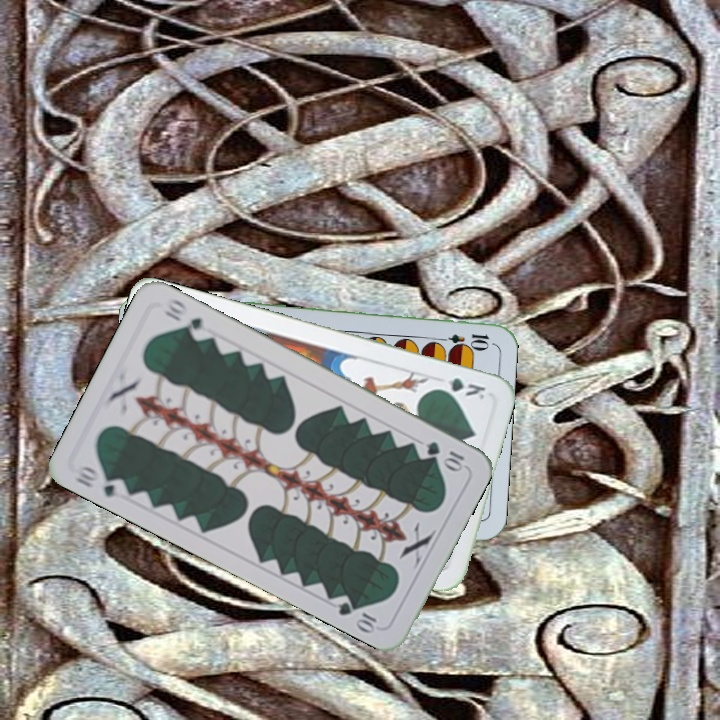E10: (433, 329, 492, 349)
G10: (71, 462, 130, 500), (422, 437, 467, 473)
GK: (430, 374, 488, 403)
